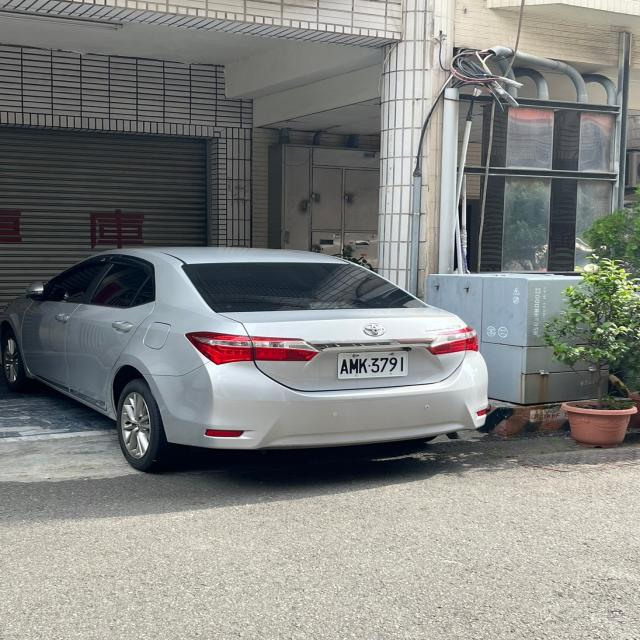license-plate: (335, 351, 406, 380)
